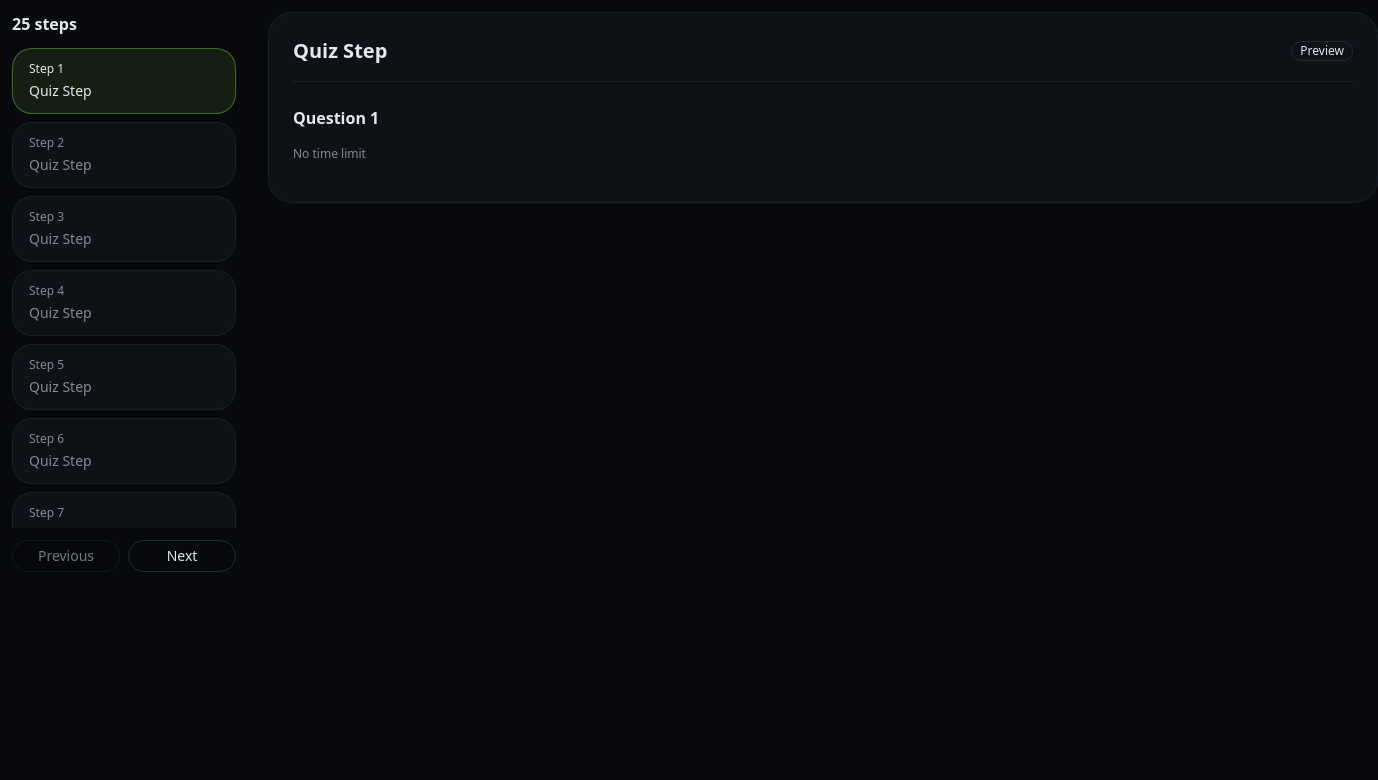
Test: shared game step pagination › keeps Next and Previous available after all pages load
The image size is (1378, 780).
Expected: the button "Previous" is disabled, [12,540,120,572]
What coordinates should you click on to do the following:
click the button "Next"
I would click on:
 (182, 556)
Its box is [128,540,236,572].
(page scrolled)
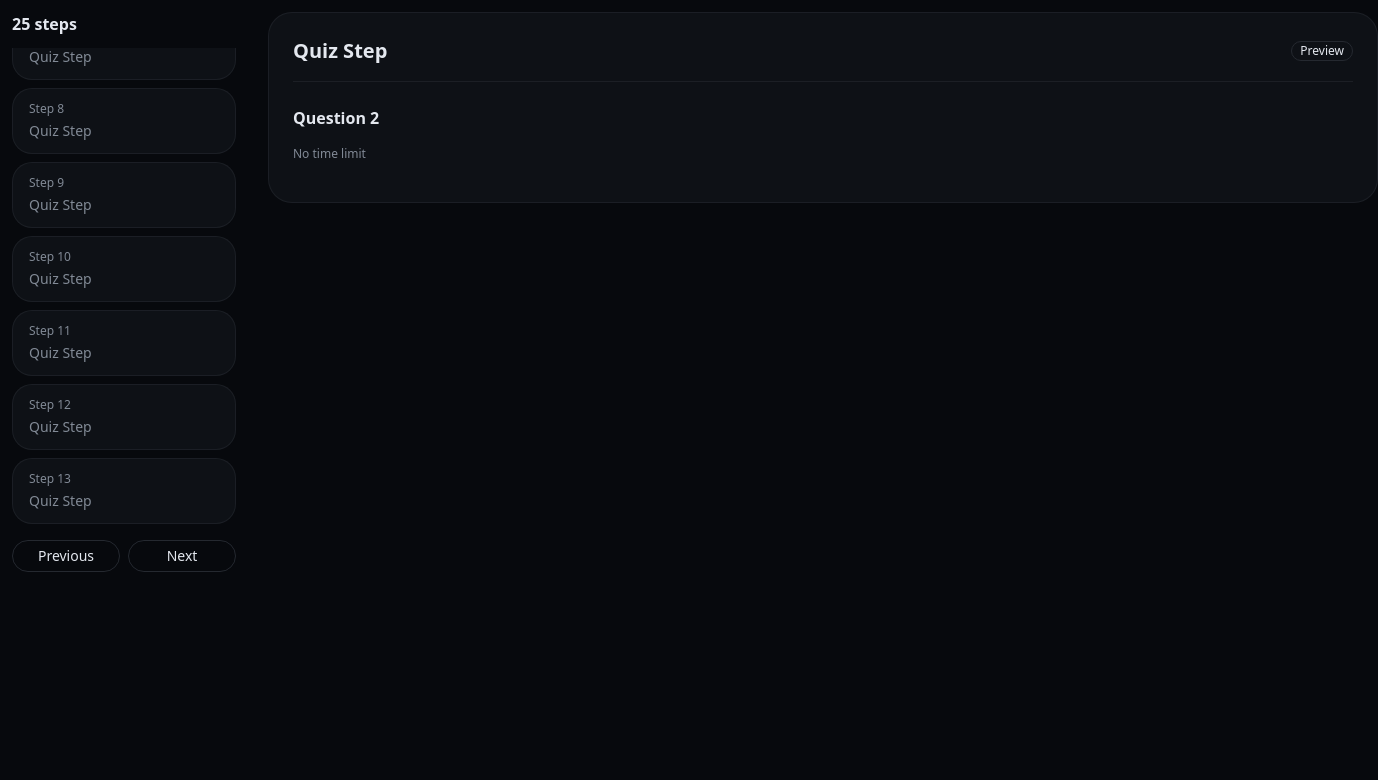
Expected: the text "Question 2" is shown, [293,107,379,129]
What coordinates should you click on to do the following:
click the button "Step 12 Quiz Step"
I would click on:
 (124, 417)
Its box is [12,384,236,450].
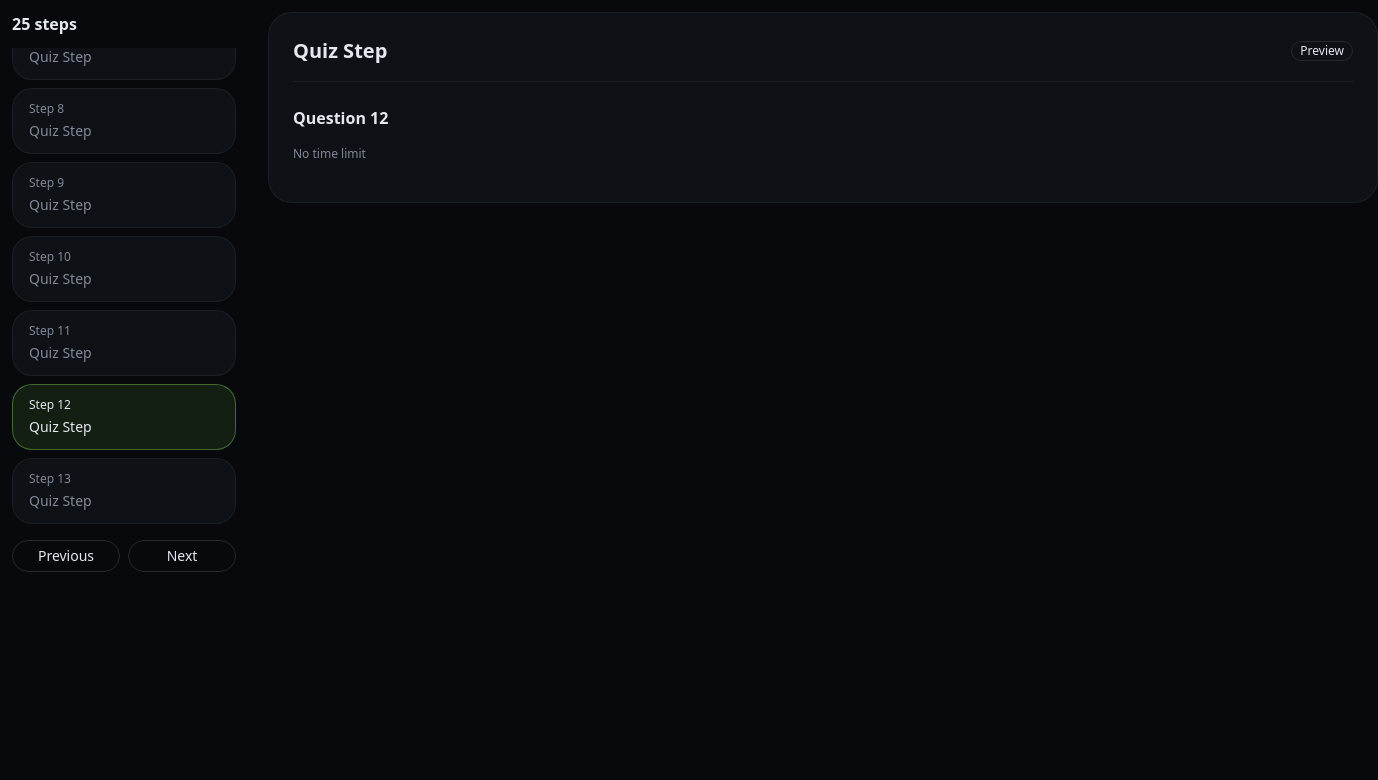
What coordinates should you click on to do the following:
click the button "Next"
I would click on:
 (182, 556)
Its box is [128,540,236,572].
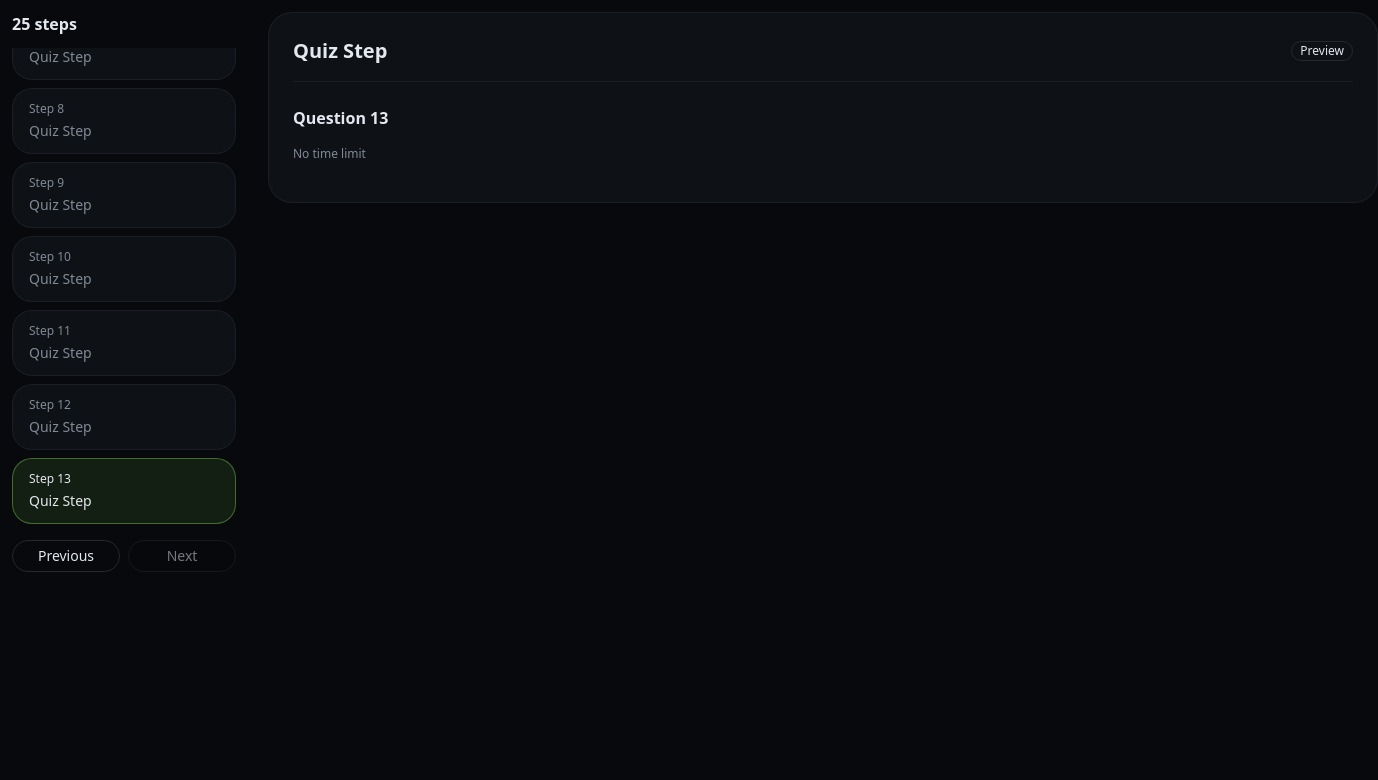
Expected: the button "Previous" is enabled
Expected: the text "Question 13" is shown, [293,107,388,129]
Expected: the button "Next" is disabled, [128,540,236,572]
What coordinates should you click on to do the following:
click the button "Previous"
I would click on:
 (66, 556)
Its box is [12,540,120,572].
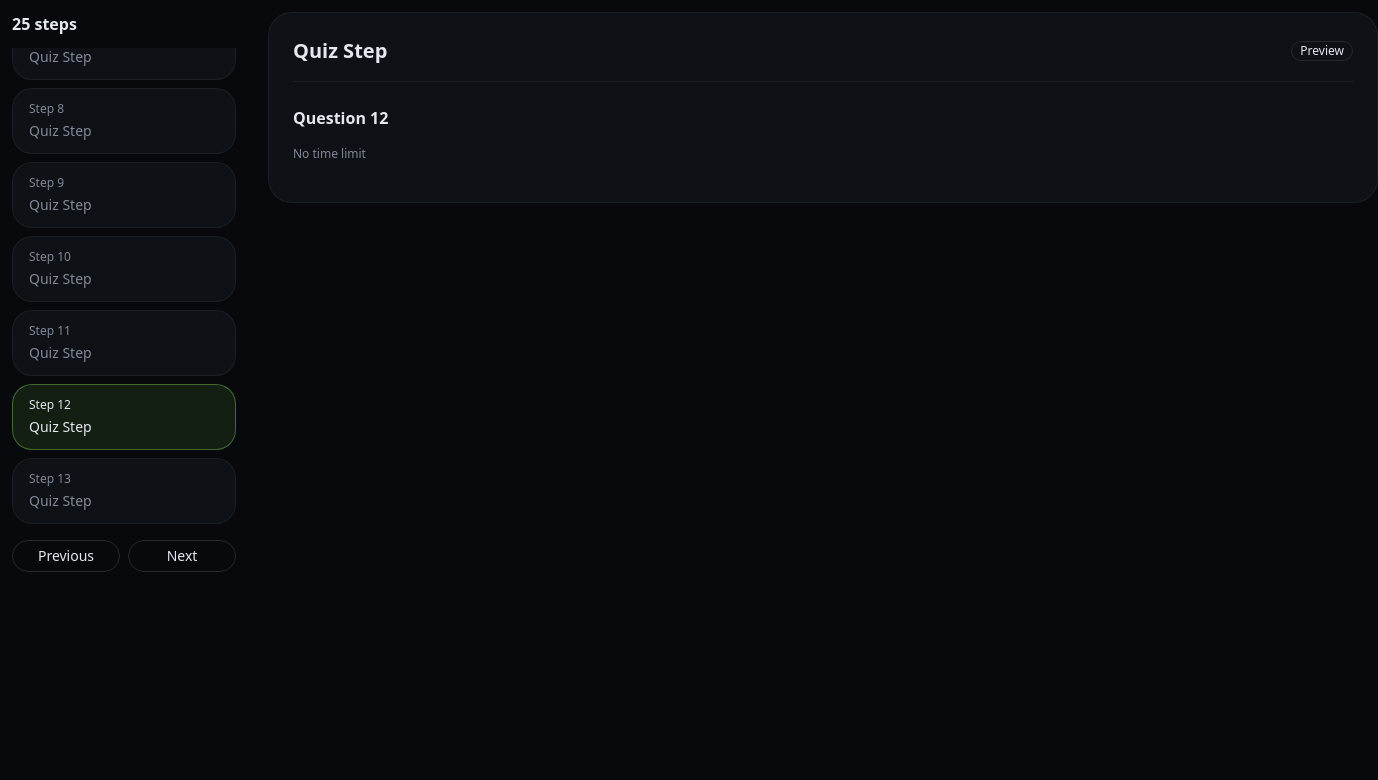
Expected: the text "Question 12" is shown, [293,107,388,129]
Expected: the button "Next" is enabled, [128,540,236,572]
